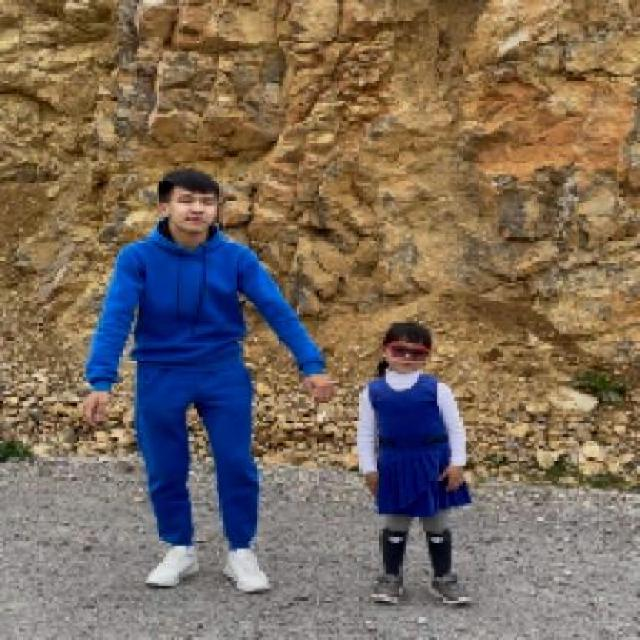child: (354, 320, 474, 603)
